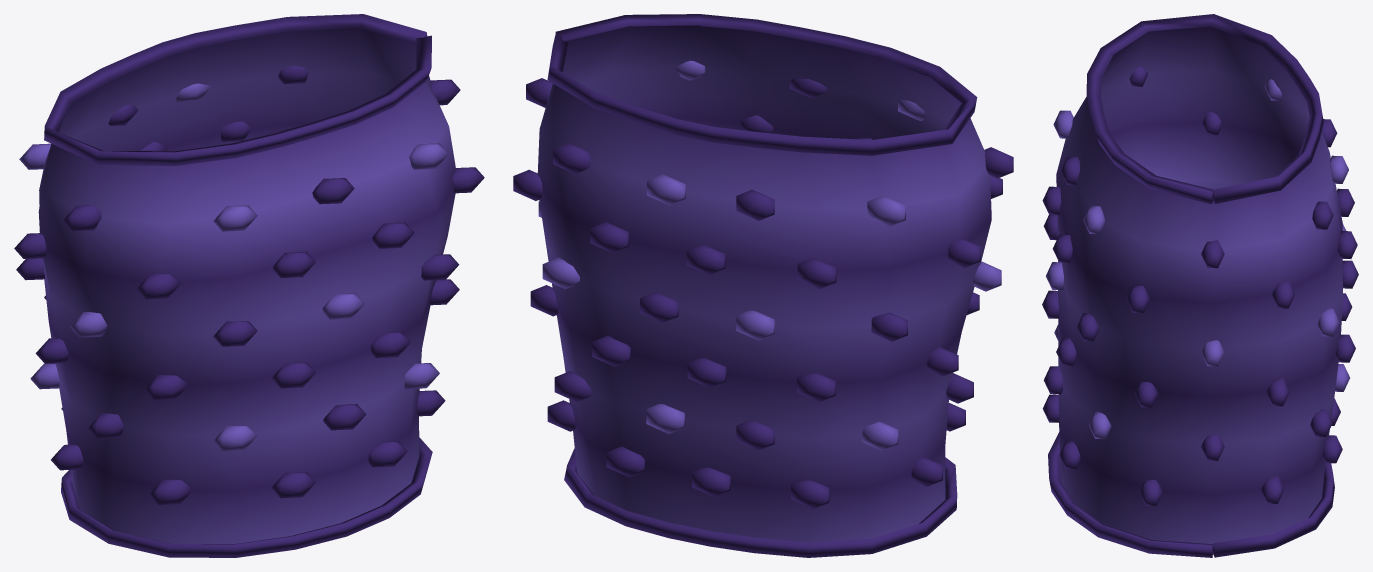
Rendered from demonite_armor_chest.glb.
3 renders of one model, left to right at view 1: azimuth 30°, elevation 25°; view 2: azimuth 150°, elevation 25°; view 3: azimuth 270°, elevation 25°, orthographic. The views are drawn at different scales.
Visible parts, largest first — view 1: demonite_armor_chest; view 2: demonite_armor_chest; view 3: demonite_armor_chest.
Part boxes in pixels (x1,y1,x2,y2): demonite_armor_chest: (14,14,484,557); demonite_armor_chest: (513,14,1013,557); demonite_armor_chest: (1042,14,1358,557).
Bounding box in the file's own units: 0.4437 × 0.3857 × 0.2924.
